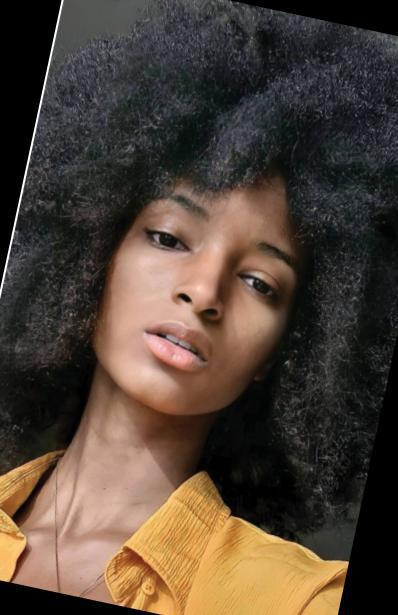Sober: (103, 180, 288, 411)
